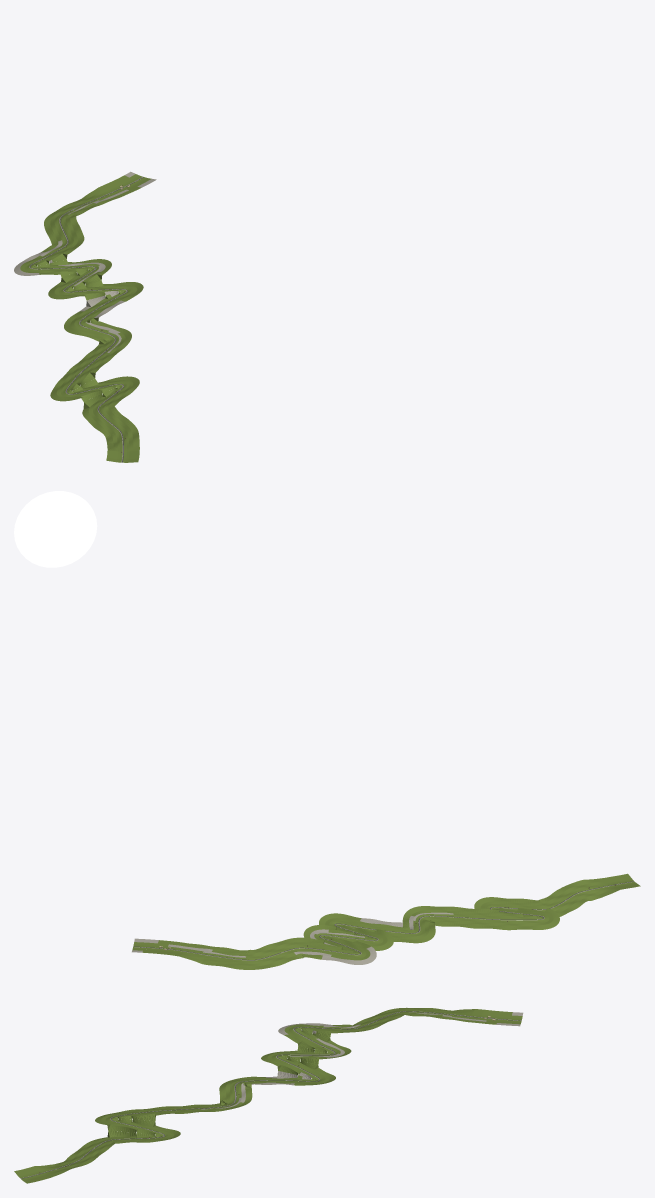
File: gardena.glb
3 views of the same model, one above another, from view 1: azimuth 30°, elevation 25°; view 2: azimuth 150°, elevation 25°; view 3: azimuth 330°, elevation 25° (orthographic).
Parts seen in each view (by area): view 1: no part large enough to name; view 2: Sun; view 3: Pasture_000, Pasture_009, Pasture_008, Pasture_027, Pasture_016, Pasture_022, Pasture_024, Pasture_037, Pasture_021, Pasture_036, Pasture_005, Pasture_003 (+5 smaller).
Boxes of the visible parts, left/top/right/bottom form: Sun: left=14, top=491, right=97, bottom=567; Pasture_000: left=14, top=1166, right=49, bottom=1183; Pasture_009: left=96, top=1116, right=136, bottom=1131; Pasture_008: left=127, top=1119, right=160, bottom=1135; Pasture_027: left=287, top=1031, right=325, bottom=1047; Pasture_016: left=219, top=1083, right=252, bottom=1097; Pasture_022: left=269, top=1057, right=305, bottom=1072; Pasture_024: left=293, top=1046, right=319, bottom=1063; Pasture_037: left=481, top=1010, right=509, bottom=1024; Pasture_021: left=289, top=1062, right=326, bottom=1076; Pasture_036: left=457, top=1009, right=487, bottom=1023; Pasture_005: left=102, top=1130, right=132, bottom=1143; Pasture_003: left=67, top=1149, right=105, bottom=1159.
Size of the model in its own units: 6648 by 3137 by 4995.
